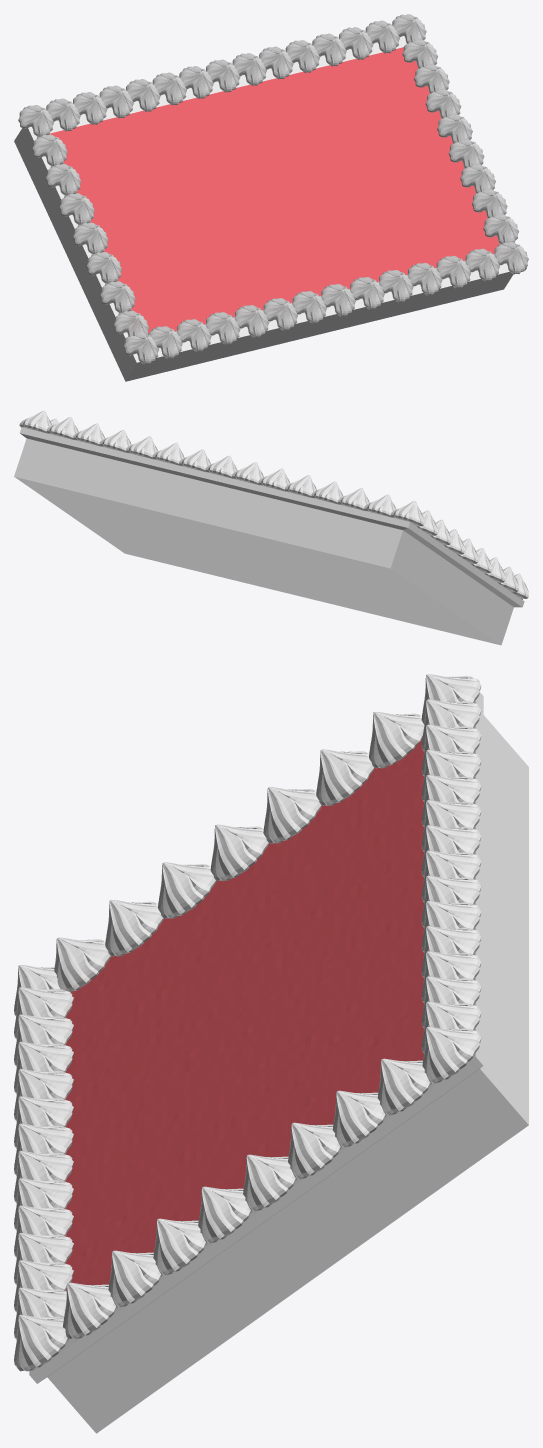
The model's file is elevated_photo_cake_rect.glb.
3 views of the same model, one above another, from view 1: azimuth 30°, elevation 25°; view 2: azimuth 150°, elevation 25°; view 3: azimuth 270°, elevation 25° (orthographic). The views are drawn at different scales.
Parts seen in each view (by area): view 1: top, cake, Star.014, Star.016, Star.015, Star.020, Star.017, Star.018, Star.021, Star.004, Star.010, Star.001 (+34 smaller); view 2: cake, Star.021, Star.034, Star.031, Star.033, Star.035, Star.023, Star.026, Star.028, Star.022, Star.029, Star.030 (+11 smaller); view 3: top, cake, Star.035, Star.015, Star.017, Star.014, Star.016, Star.018, Star.020, Star.019, Star.013, Star.043 (+34 smaller).
Part boxes in pixels (x1,y1,x2,y2): top: (50, 47, 499, 333); cake: (14, 24, 526, 381); Star.014: (100, 281, 135, 312); Star.016: (72, 222, 108, 253); Star.015: (86, 252, 121, 283); Star.020: (32, 134, 67, 166); Star.017: (59, 193, 94, 224); Star.018: (45, 163, 81, 195); Star.021: (18, 105, 53, 136); Star.004: (378, 270, 413, 302); Star.010: (205, 312, 240, 344); Star.001: (465, 248, 499, 281); cake: (14, 427, 524, 645); Star.021: (390, 501, 424, 526); Star.034: (46, 417, 78, 439); Star.031: (126, 436, 157, 458); Star.033: (73, 423, 105, 446); Star.035: (19, 410, 52, 433); Star.023: (337, 488, 369, 510); Star.026: (258, 468, 290, 491); Star.028: (205, 455, 237, 478); Star.022: (364, 494, 396, 517); Star.029: (179, 449, 210, 471); Star.030: (152, 442, 184, 465); top: (65, 738, 424, 1291); cake: (29, 692, 528, 1433); Star.035: (422, 1026, 481, 1083); Star.015: (158, 862, 215, 918); Star.017: (263, 787, 321, 843); Star.014: (105, 900, 163, 956); Star.016: (210, 824, 268, 881); Star.018: (316, 749, 374, 805); Star.020: (369, 712, 424, 768); Star.019: (14, 1314, 68, 1371); Star.013: (54, 937, 110, 992); Star.043: (63, 1282, 117, 1339).
Bounding box in the file's own units: 1.7 × 0.8346 × 0.9676.
